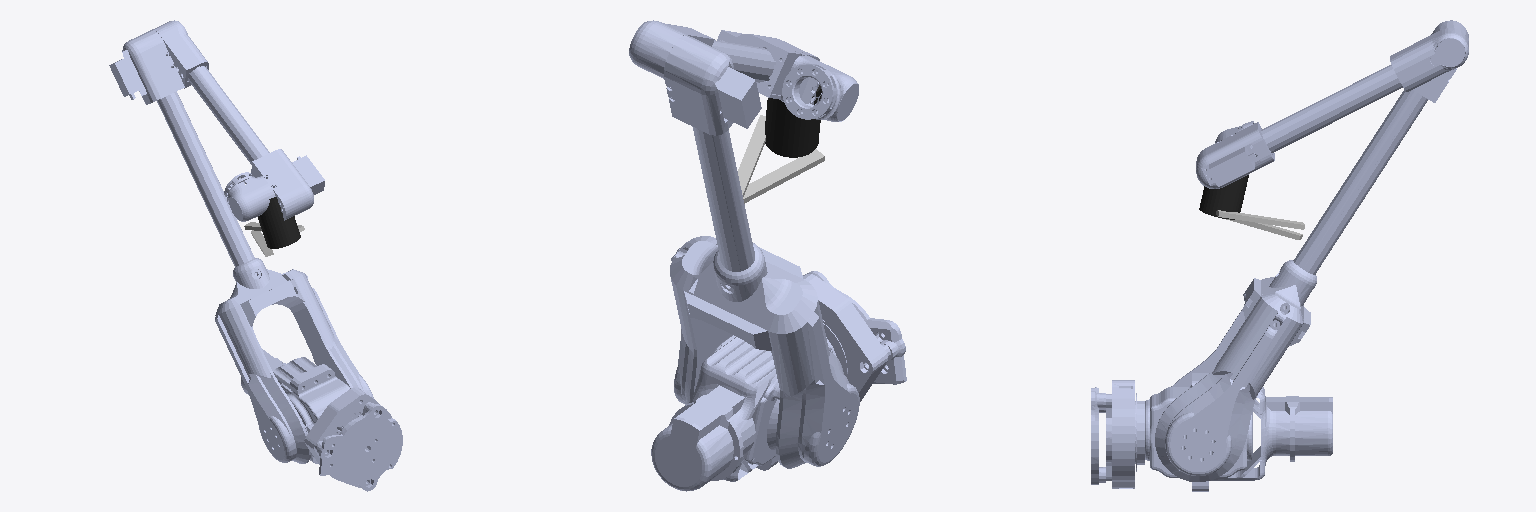
URDF robot description (Brazo4):
<?xml version="1.0" encoding="utf-8"?>
<!-- This URDF was automatically created by SolidWorks to URDF Exporter! Originally created by Stephen Brawner (brawner@gmail.com) 
     Commit Version: 1.6.0-4-g7f85cfe  Build Version: 1.6.7995.38578
     For more information, please see http://wiki.ros.org/sw_urdf_exporter -->
<robot
  name="Brazo4">
  <!-- Dummy root link (fixes KDL warning about inertia on root) -->
  <link name="base_link"/>
  <joint name="base_fixed" type="fixed">
    <origin xyz="0 0 0" rpy="-1.5708 0 0"/>
    <parent link="base_link"/>
    <child link="BL"/>
  </joint>
  <link
    name="BL">
    <inertial>
      <origin
        xyz="0.68004907502854 0.0250358038800207 1.43461136648188"
        rpy="0 0 0" />
      <mass
        value="0.216624982790517" />
      <inertia
        ixx="0.000171878068130116"
        ixy="-3.33832683541553E-06"
        ixz="5.68766101385238E-07"
        iyy="0.000274157209842806"
        iyz="-2.34732330817513E-06"
        izz="0.000179018138290511" />
    </inertial>
    <visual>
      <origin
        xyz="0 0 0"
        rpy="0 0 0" />
      <geometry>
        <mesh
          filename="package://brazo4/meshes/BL.STL" />
      </geometry>
      <material
        name="">
        <color
          rgba="0.792156862745098 0.819607843137255 0.933333333333333 1" />
      </material>
    </visual>
    <collision>
      <origin
        xyz="0 0 0"
        rpy="0 0 0" />
      <geometry>
        <mesh
          filename="package://brazo4/meshes/BL.STL" />
      </geometry>
    </collision>
  </link>
  <link
    name="L1">
    <inertial>
      <origin
        xyz="-0.000309793943073955 -0.00513409677808996 -0.0762146130753223"
        rpy="0 0 0" />
      <mass
        value="0.392037903021729" />
      <inertia
        ixx="0.0010305315081974"
        ixy="-2.30657987313236E-06"
        ixz="-4.7995776810544E-06"
        iyy="0.00112787372936762"
        iyz="-3.16229732071866E-05"
        izz="0.000375839383901312" />
    </inertial>
    <visual>
      <origin
        xyz="0 0 0"
        rpy="0 0 0" />
      <geometry>
        <mesh
          filename="package://brazo4/meshes/L1.STL" />
      </geometry>
      <material
        name="">
        <color
          rgba="0.792156862745098 0.819607843137255 0.933333333333333 1" />
      </material>
    </visual>
    <collision>
      <origin
        xyz="0 0 0"
        rpy="0 0 0" />
      <geometry>
        <mesh
          filename="package://brazo4/meshes/L1.STL" />
      </geometry>
    </collision>
  </link>
  <joint
    name="J1"
    type="revolute">
    <origin
      xyz="0.68259 -1.4348 0.0445"
      rpy="3.1416 0 1.35263" />
    <parent
      link="BL" />
    <child
      link="L1" />
    <axis
      xyz="0 0 1" />
    <limit
      lower="-1.78896"
      upper="4.49422"
      effort="100"
      velocity="1.0" />
  </joint>
  <link
    name="L2">
    <inertial>
      <origin
        xyz="-0.0493756831059547 -0.00301554846344509 -0.129289015408759"
        rpy="0 0 0" />
      <mass
        value="0.601755016238767" />
      <inertia
        ixx="0.00308506853634869"
        ixy="-3.89378178455608E-05"
        ixz="-0.000774922123386249"
        iyy="0.0026199807500654"
        iyz="-0.000101700297074094"
        izz="0.00135154984802928" />
    </inertial>
    <visual>
      <origin
        xyz="0 0 0"
        rpy="0 0 0" />
      <geometry>
        <mesh
          filename="package://brazo4/meshes/L2.STL" />
      </geometry>
      <material
        name="">
        <color
          rgba="0.792156862745098 0.819607843137255 0.933333333333333 1" />
      </material>
    </visual>
    <collision>
      <origin
        xyz="0 0 0"
        rpy="0 0 0" />
      <geometry>
        <mesh
          filename="package://brazo4/meshes/L2.STL" />
      </geometry>
    </collision>
  </link>
  <joint
    name="J2"
    type="revolute">
    <origin
      xyz="0 0 -0.060218"
      rpy="0 0.6425546 0" />
    <parent
      link="L1" />
    <child
      link="L2" />
    <axis
      xyz="0 1 0" />
    <limit
      lower="-2.443461"
      upper="0.0"
      effort="100"
      velocity="1.0" />
  </joint>
  <link
    name="L3">
    <inertial>
      <origin
        xyz="0.161138326166615 0.0229391632136013 -0.0330352082663228"
        rpy="0 0 0" />
      <mass
        value="0.150214193499823" />
      <inertia
        ixx="3.8962042143273E-05"
        ixy="-1.88798036481879E-06"
        ixz="3.77138125625583E-05"
        iyy="0.000223777685716378"
        iyz="3.22888902910438E-07"
        izz="0.000214613686148874" />
    </inertial>
    <visual>
      <origin
        xyz="0 0 0"
        rpy="0 0 0" />
      <geometry>
        <mesh
          filename="package://brazo4/meshes/L3.STL" />
      </geometry>
      <material
        name="">
        <color
          rgba="0.792156862745098 0.819607843137255 0.933333333333333 1" />
      </material>
    </visual>
    <collision>
      <origin
        xyz="0 0 0"
        rpy="0 0 0" />
      <geometry>
        <mesh
          filename="package://brazo4/meshes/L3.STL" />
      </geometry>
    </collision>
  </link>
  <joint
    name="J3"
    type="revolute">
    <origin
      xyz="-0.16402 0.010151 -0.42946"
      rpy="3.14159 -1.202132 3.14159" />
    <parent
      link="L2" />
    <child
      link="L3" />
    <axis
      xyz="0 -1 0" />
    <limit
      lower="0.0"
      upper="2.617994"
      effort="100"
      velocity="1.0" />
  </joint>
  <link
    name="L4">
    <inertial>
      <origin
        xyz="-0.00269903375587649 -0.0173904129270954 -0.00408667730492152"
        rpy="0 0 0" />
      <mass
        value="0.0310036200190479" />
      <inertia
        ixx="9.25098038318168E-06"
        ixy="-2.61769794792403E-07"
        ixz="-4.91764161077723E-07"
        iyy="8.96685575236947E-06"
        iyz="-3.96344741142352E-07"
        izz="8.83116428805205E-06" />
    </inertial>
    <visual>
      <origin
        xyz="0 0 0"
        rpy="0 0 0" />
      <geometry>
        <mesh
          filename="package://brazo4/meshes/L4.STL" />
      </geometry>
      <material
        name="">
        <color
          rgba="0.792156862745098 0.819607843137255 0.933333333333333 1" />
      </material>
    </visual>
    <collision>
      <origin
        xyz="0 0 0"
        rpy="0 0 0" />
      <geometry>
        <mesh
          filename="package://brazo4/meshes/L4.STL" />
      </geometry>
    </collision>
  </link>
  <joint
    name="J4"
    type="revolute">
    <origin
      xyz="0.2336495 0 -0.0478555"
      rpy="0 1.0730563 0" />
    <parent
      link="L3" />
    <child
      link="L4" />
    <axis
      xyz="0 -1 0" />
    <limit
      lower="0.0"
      upper="3.141593"
      effort="100"
      velocity="1.0" />
  </joint>

  <!-- ================= GRIZZER / TIJERA EFFECTOR ================= -->
  
  <!-- Gripper Base connected to L4 -->
  <link name="gripper_base">
    <visual>
      <origin xyz="0 0 0.03" rpy="0 0 0"/>
      <geometry>
        <cylinder radius="0.02" length="0.06"/>
      </geometry>
      <material name="dark_grey">
        <color rgba="0.2 0.2 0.2 1.0"/>
      </material>
    </visual>
    <collision>
      <origin xyz="0 0 0.03" rpy="0 0 0"/>
      <geometry>
        <cylinder radius="0.02" length="0.06"/>
      </geometry>
    </collision>
    <inertial>
      <mass value="0.01"/>
      <inertia ixx="1e-5" ixy="0" ixz="0" iyy="1e-5" iyz="0" izz="1e-5"/>
    </inertial>
  </link>

  <joint name="gripper_base_joint" type="fixed">
    <!-- Se coloca en la punta del eslabón L4 -->
    <origin xyz="0 0 0" rpy="0 1.5708 0"/>
    <parent link="L4"/>
    <child link="gripper_base"/>
  </joint>

  <!-- Tijera Izquierda (Móvil) -->
  <link name="tijera_izq">
    <visual>
      <origin xyz="0.04 0 0.005" rpy="0 0 0.3"/>
      <geometry>
        <box size="0.09 0.01 0.005"/>
      </geometry>
      <material name="silver">
        <color rgba="0.8 0.8 0.8 1.0"/>
      </material>
    </visual>
    <collision>
      <origin xyz="0.04 0 0.005" rpy="0 0 0.3"/>
      <geometry>
        <box size="0.09 0.01 0.005"/>
      </geometry>
    </collision>
    <inertial>
      <mass value="0.005"/>
      <inertia ixx="1e-6" ixy="0" ixz="0" iyy="1e-6" iyz="0" izz="1e-6"/>
    </inertial>
  </link>

  <joint name="joint_tijera_izq" type="revolute">
    <origin xyz="0 -0.01 0.06" rpy="0 0 0"/>
    <parent link="gripper_base"/>
    <child link="tijera_izq"/>
    <axis xyz="0 0 1"/>
    <limit lower="-0.6" upper="0.6" effort="10" velocity="1.0"/>
  </joint>

  <!-- Tijera Derecha (Móvil) -->
  <link name="tijera_der">
    <visual>
      <origin xyz="0.04 0 -0.005" rpy="0 0 -0.3"/>
      <geometry>
        <box size="0.09 0.01 0.005"/>
      </geometry>
      <material name="silver"/>
    </visual>
    <collision>
      <origin xyz="0.04 0 -0.005" rpy="0 0 -0.3"/>
      <geometry>
        <box size="0.09 0.01 0.005"/>
      </geometry>
    </collision>
    <inertial>
      <mass value="0.005"/>
      <inertia ixx="1e-6" ixy="0" ixz="0" iyy="1e-6" iyz="0" izz="1e-6"/>
    </inertial>
  </link>

  <joint name="joint_tijera_der" type="revolute">
    <origin xyz="0 0.01 0.06" rpy="0 0 0"/>
    <parent link="gripper_base"/>
    <child link="tijera_der"/>
    <axis xyz="0 0 1"/>
    <!-- Rota opuesto a la izquierda -->
    <limit lower="-0.6" upper="0.6" effort="10" velocity="1.0"/>
  </joint>
</robot>

--- Facts derived from the render (not from the file) ---
3 views of the same robot in one strip: view 1: azimuth 30°, elevation 25°; view 2: azimuth 150°, elevation 25°; view 3: azimuth 270°, elevation 25° (orthographic).
Robot: Brazo4 — 9 links, 8 joints (6 revolute, 2 fixed); root link base_link; default pose: every joint at zero.
Links seen in each view (by area): view 1: L2, L3, BL, L1, L4, gripper_base; view 2: L2, L1, BL, L3, L4, gripper_base, tijera_izq, tijera_der; view 3: L2, L3, L1, BL, gripper_base, tijera_der.
Boxes of the visible links, x1,y1,x2,y2 form: L2: [109, 30, 374, 463]; L3: [152, 20, 324, 220]; BL: [304, 387, 402, 491]; L1: [241, 349, 349, 463]; L4: [224, 172, 275, 221]; gripper_base: [258, 197, 300, 248]; L2: [664, 35, 859, 468]; L1: [651, 335, 836, 491]; BL: [803, 271, 906, 401]; L3: [629, 20, 819, 99]; L4: [781, 55, 858, 121]; gripper_base: [765, 85, 821, 157]; tijera_izq: [743, 149, 824, 203]; tijera_der: [738, 115, 765, 196]; L2: [1155, 20, 1468, 481]; L3: [1196, 28, 1468, 188]; L1: [1137, 373, 1332, 491]; BL: [1091, 380, 1136, 488]; gripper_base: [1199, 175, 1248, 219]; tijera_der: [1216, 210, 1304, 229].
Bounding box of the posed robot: 0.1944 × 0.3682 × 0.4629 m (x, y, z).
5 mesh visuals loaded from 5 distinct referenced files (5 binary STL).
